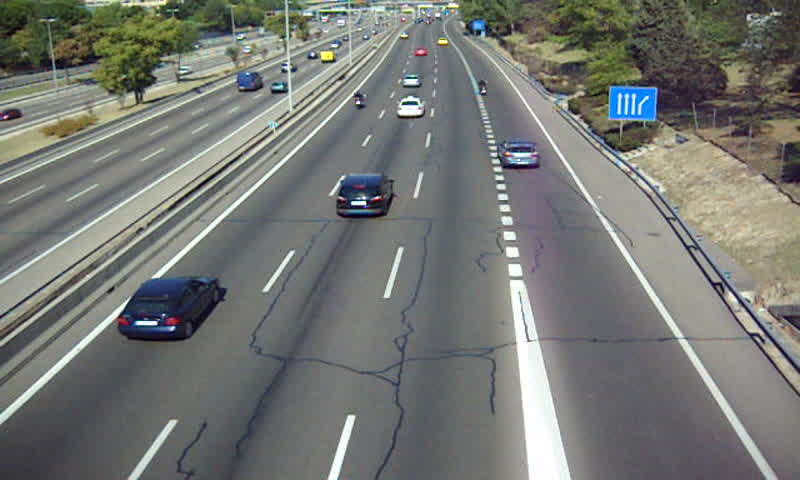car: (117, 276, 220, 341), (336, 172, 394, 215), (496, 138, 540, 169), (396, 96, 424, 118), (401, 73, 421, 88)
motorcycle: (354, 90, 369, 112), (477, 78, 488, 96)
